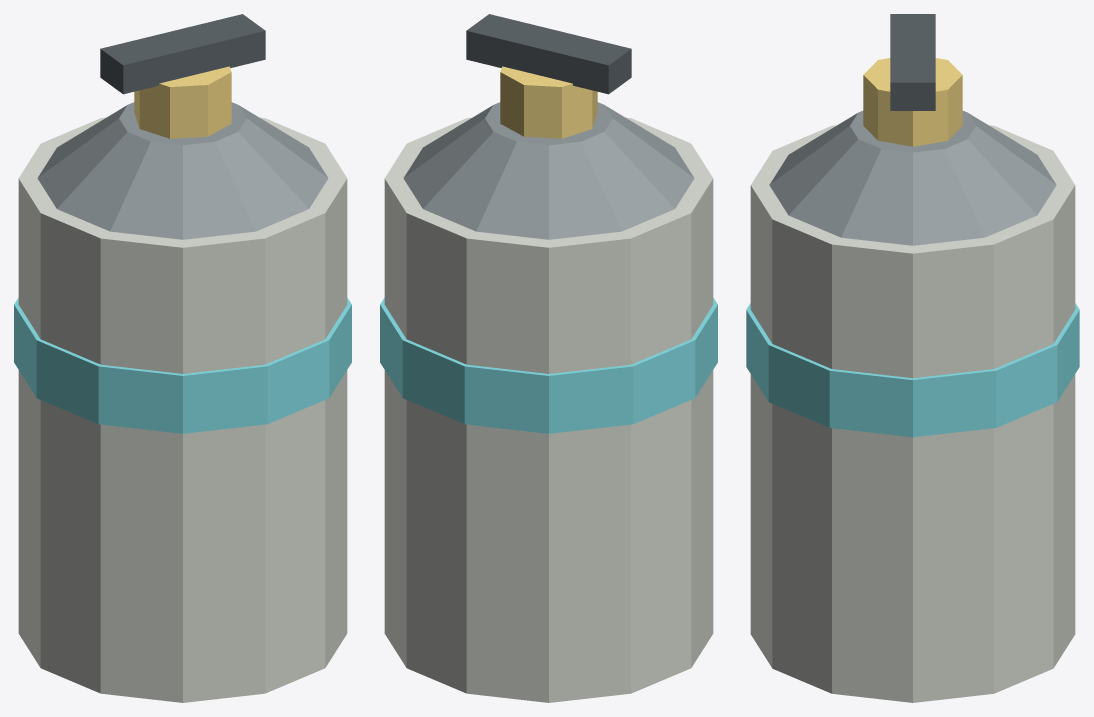
File: hydrogen.glb
The picture shows the model from 3 angles, left to right: view 1: azimuth 30°, elevation 25°; view 2: azimuth 150°, elevation 25°; view 3: azimuth 270°, elevation 25°; orthographic projection.
Visible parts, largest first — view 1: hydrogen / Ivory polymer, hydrogen / Machined steel, hydrogen / Cyan markings, hydrogen / Graphite enamel, hydrogen / Gold markings and contacts; view 2: hydrogen / Ivory polymer, hydrogen / Machined steel, hydrogen / Cyan markings, hydrogen / Graphite enamel, hydrogen / Gold markings and contacts; view 3: hydrogen / Ivory polymer, hydrogen / Machined steel, hydrogen / Cyan markings, hydrogen / Gold markings and contacts, hydrogen / Graphite enamel.
Part boxes in pixels (x1,y1,x2,y2): hydrogen / Ivory polymer: (18,117,347,702); hydrogen / Machined steel: (37,102,328,239); hydrogen / Cyan markings: (14,298,351,433); hydrogen / Graphite enamel: (100,14,265,94); hydrogen / Gold markings and contacts: (134,66,231,138); hydrogen / Ivory polymer: (384,117,713,702); hydrogen / Machined steel: (403,102,694,239); hydrogen / Cyan markings: (380,298,717,433); hydrogen / Graphite enamel: (466,14,631,94); hydrogen / Gold markings and contacts: (500,66,597,138); hydrogen / Ivory polymer: (750,125,1075,702); hydrogen / Machined steel: (769,110,1056,245); hydrogen / Cyan markings: (746,303,1079,437); hydrogen / Gold markings and contacts: (863,58,962,146); hydrogen / Graphite enamel: (890,14,935,110).
Bounding box in the file's own units: 0.148 × 0.287 × 0.148.
